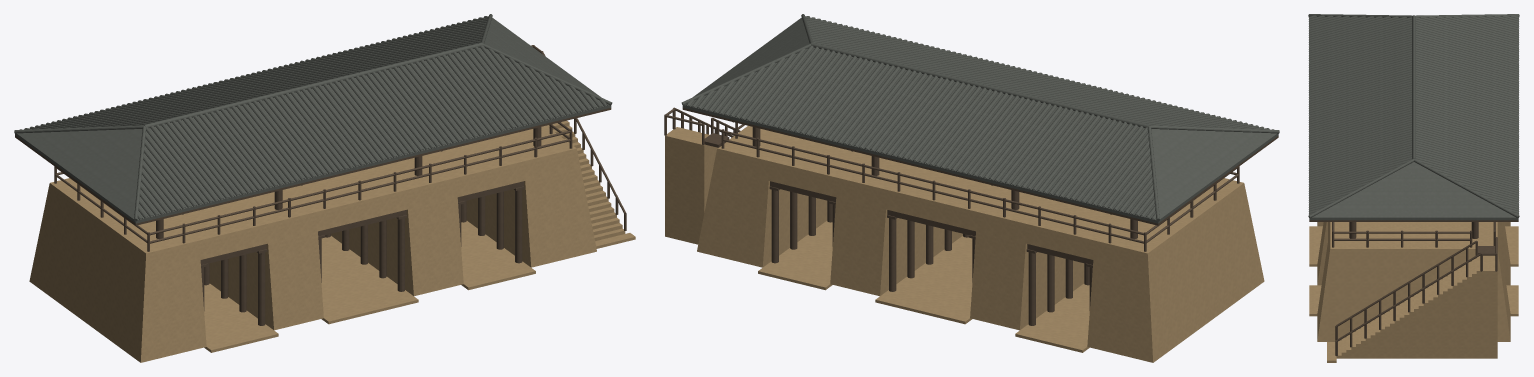
The model's file is mao-C-LOD0.glb.
3 renders of one model, left to right at view 1: azimuth 30°, elevation 25°; view 2: azimuth 150°, elevation 25°; view 3: azimuth 270°, elevation 25°, orthographic. The views are drawn at different scales.
Visible parts, largest first — view 1: mao-C-core-earth, mao-C-core-tile, mao-C-core-timber, mao-C-access-earth, mao-C-access-timber; view 2: mao-C-core-earth, mao-C-core-tile, mao-C-core-timber, mao-C-access-earth, mao-C-access-timber; view 3: mao-C-core-tile, mao-C-core-earth, mao-C-access-earth, mao-C-access-timber, mao-C-core-timber.
Boxes of the visible parts, <box> form: mao-C-core-earth: <box>29,125,596,362</box>; mao-C-core-tile: <box>14,14,612,223</box>; mao-C-core-timber: <box>15,108,611,325</box>; mao-C-access-earth: <box>546,120,635,248</box>; mao-C-access-timber: <box>531,45,626,230</box>; mao-C-core-earth: <box>697,125,1264,362</box>; mao-C-core-tile: <box>681,14,1279,223</box>; mao-C-core-timber: <box>682,108,1278,325</box>; mao-C-access-earth: <box>665,127,717,244</box>; mao-C-access-timber: <box>664,107,740,147</box>; mao-C-core-tile: <box>1308,14,1519,220</box>; mao-C-core-earth: <box>1309,222,1518,341</box>; mao-C-access-earth: <box>1327,255,1497,362</box>; mao-C-access-timber: <box>1335,237,1497,356</box>; mao-C-core-timber: <box>1309,220,1518,247</box>.
Size of the model in its own units: 31.83 by 11.02 by 13.12.
3 materials, 3 textured.
